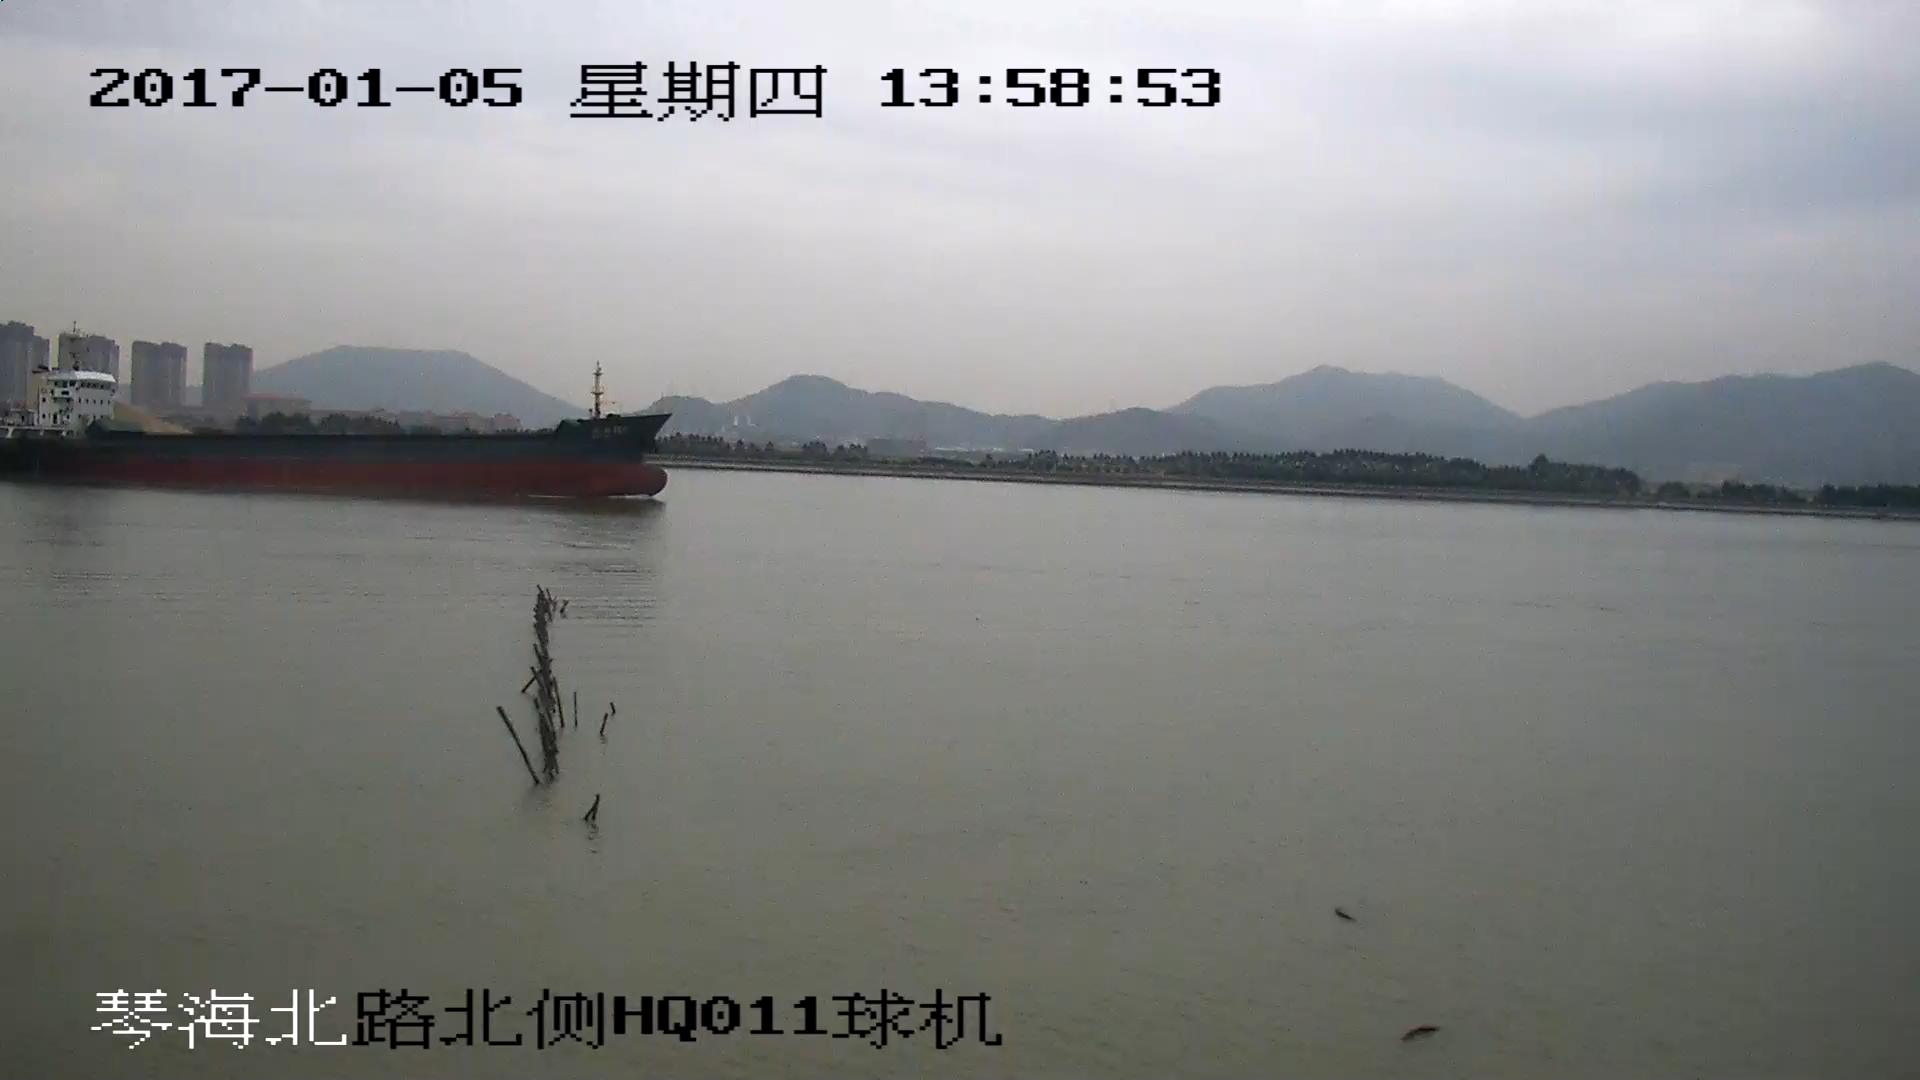general cargo ship: (1, 360, 676, 496)
